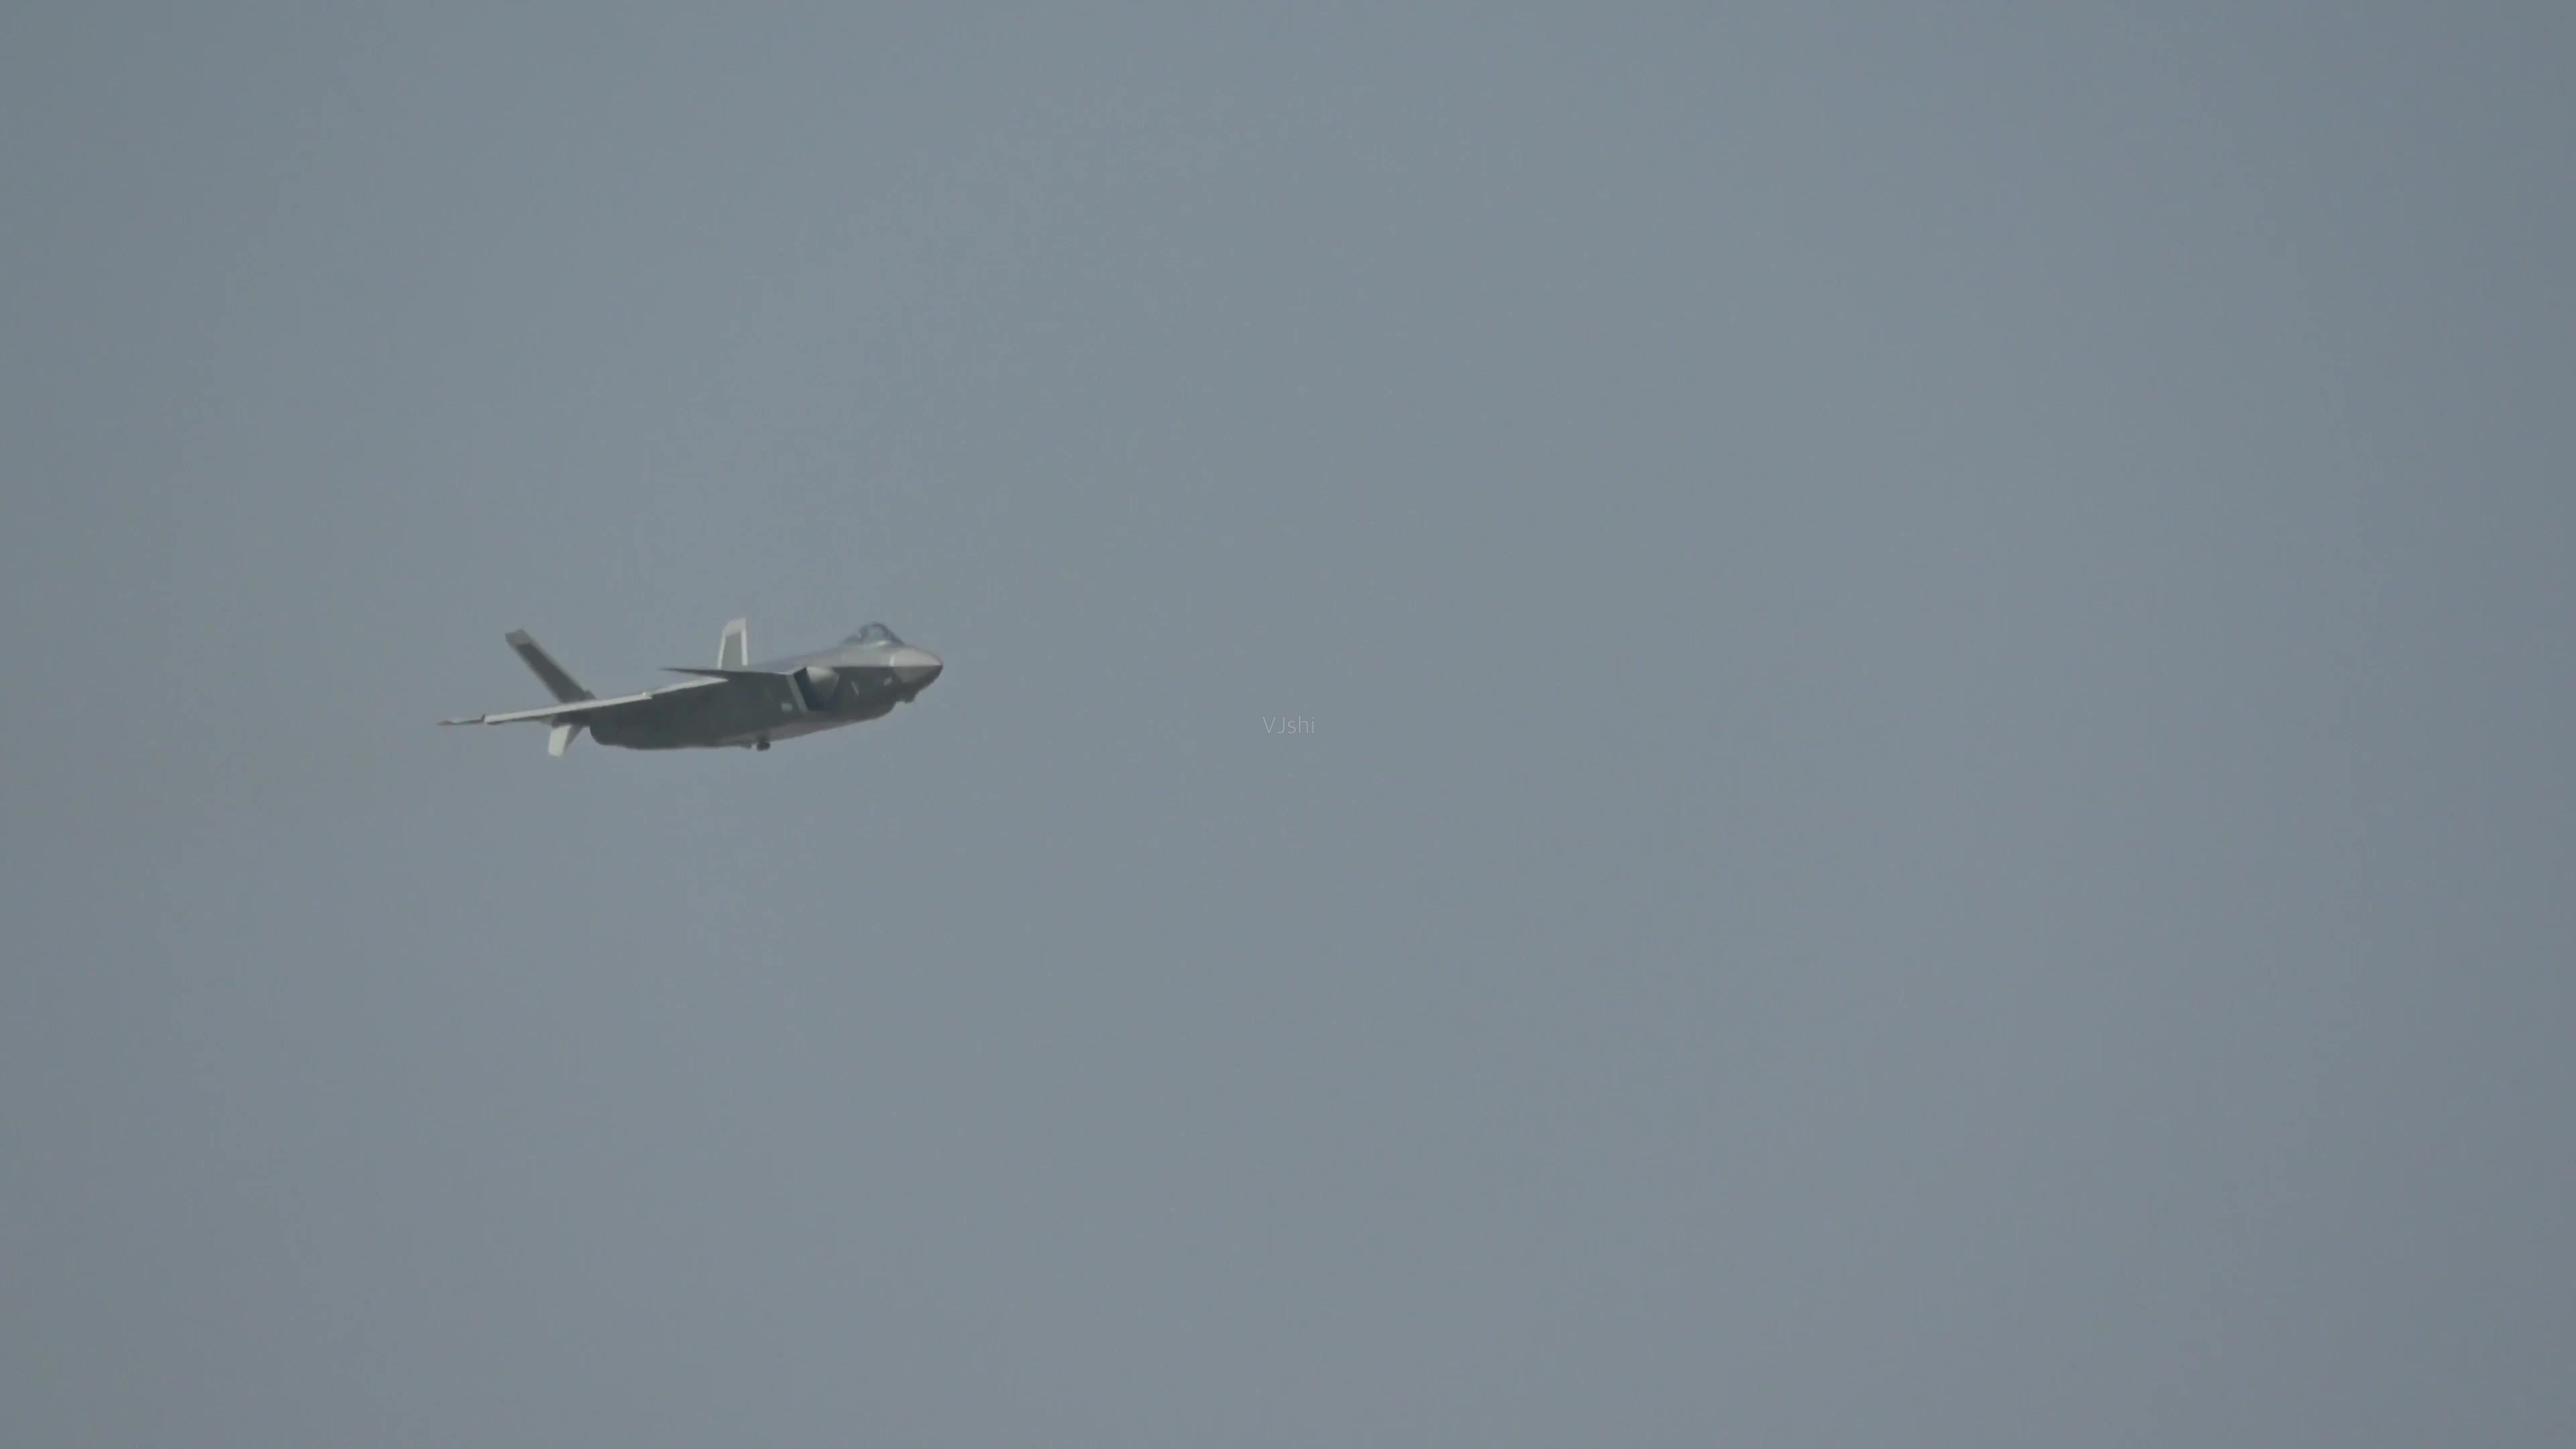J20: (435, 617, 945, 759)
